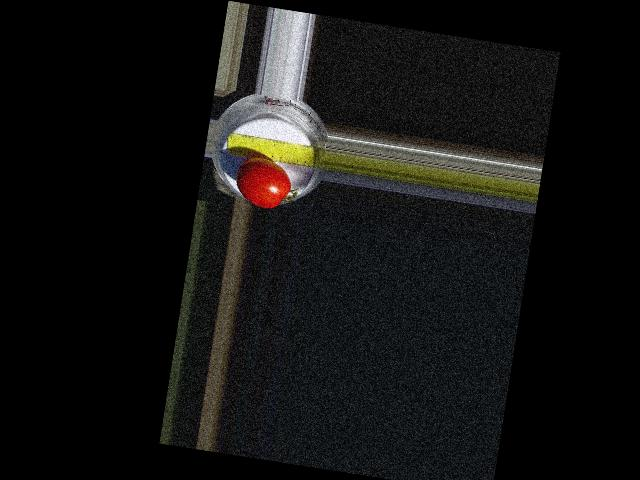tomato: (233, 153, 295, 212)
